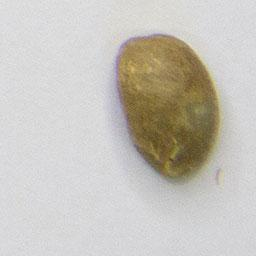longberry: (113, 31, 224, 183)
